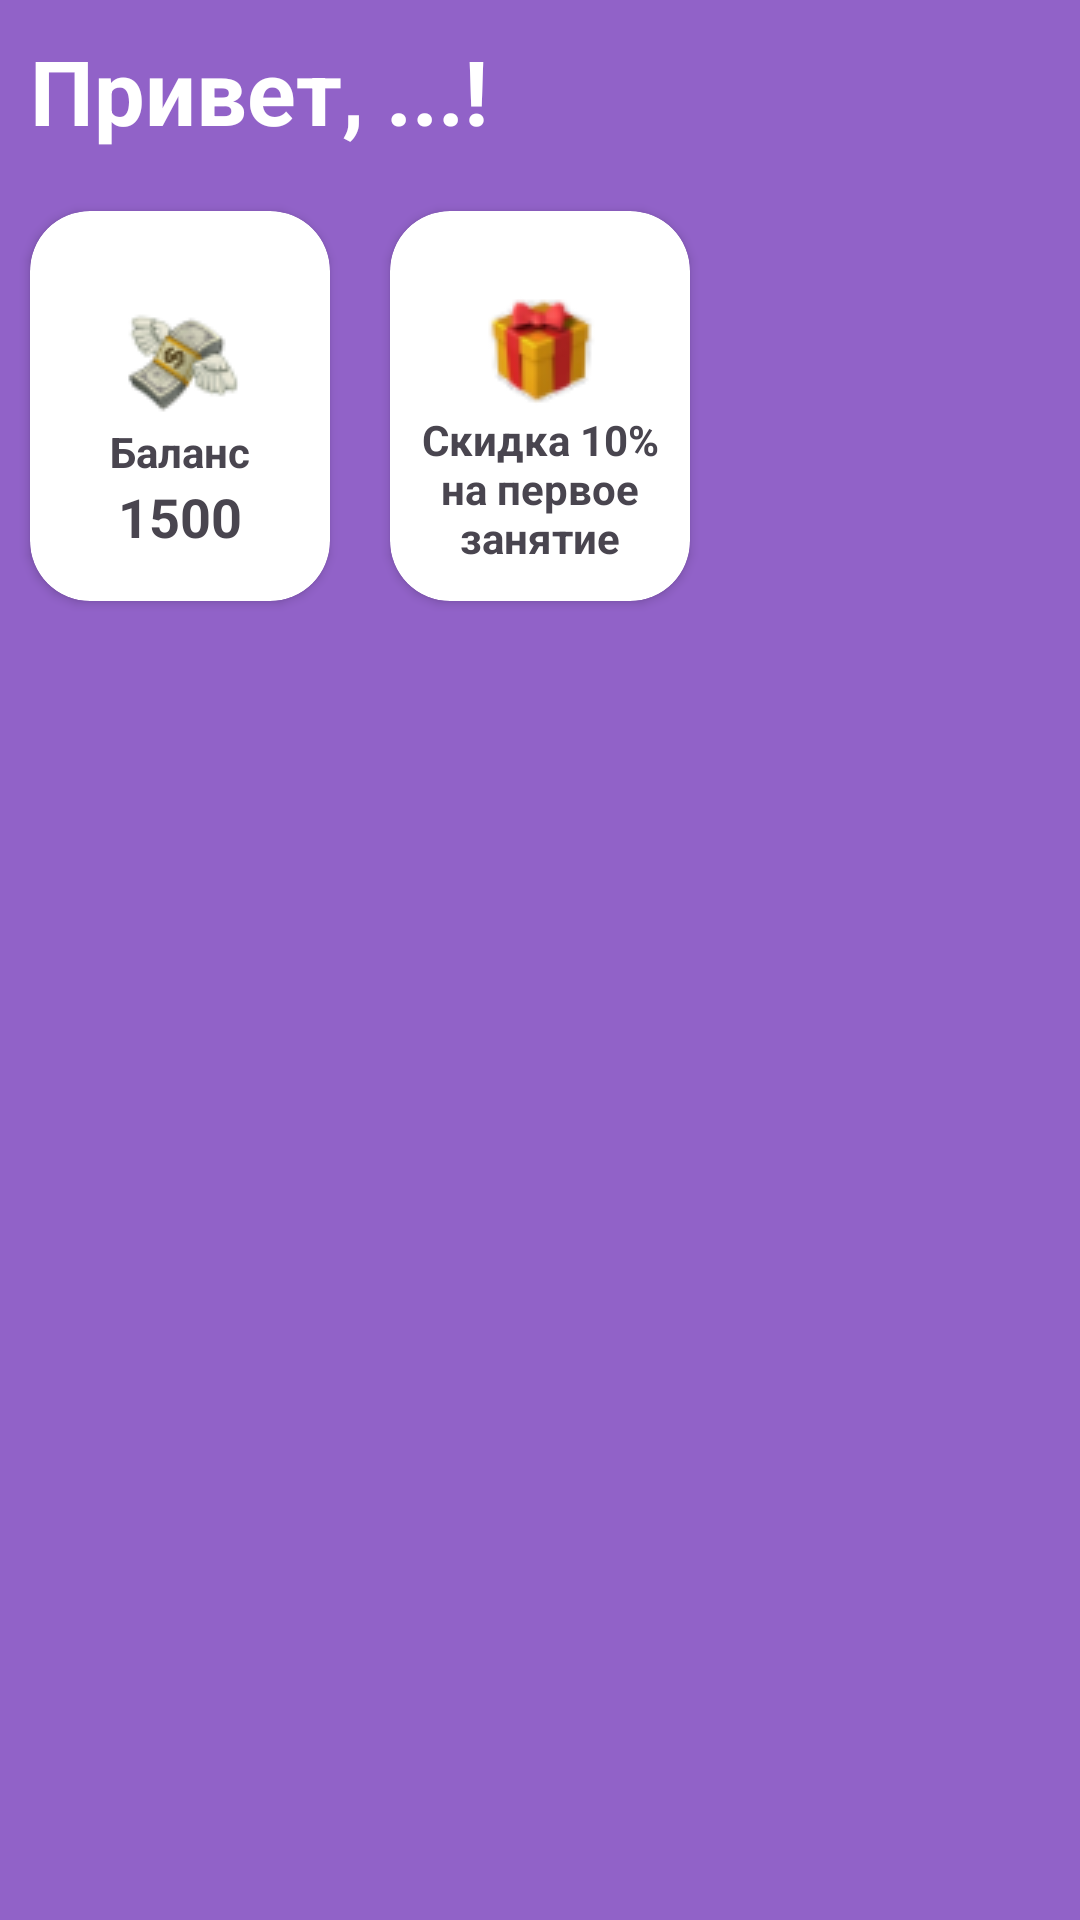

Locate icon controls on the screen. Image size 1080×1920, boxes as {"x1": x1, "y1": y1, "x2": x2, "y2": y2}.
gift: {"x1": 491, "y1": 300, "x2": 592, "y2": 402}
money: {"x1": 128, "y1": 316, "x2": 238, "y2": 411}
